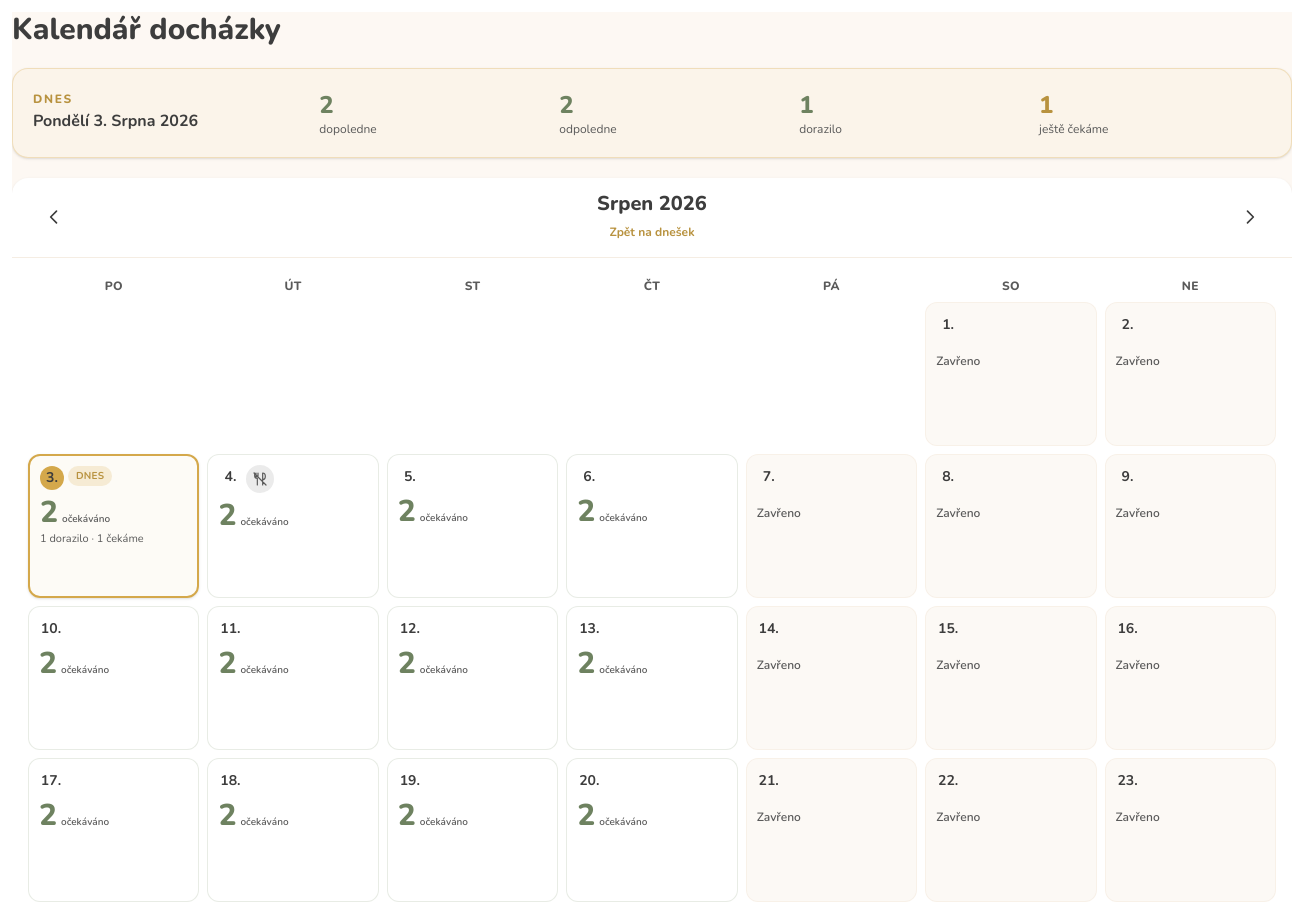
Test: disables returning to today and opening stale days while a month loads
What coordinates should you click on to do the following:
click the button named "Další měsíc"
I would click on:
 (1250, 217)
Its box is [1228, 195, 1272, 239].
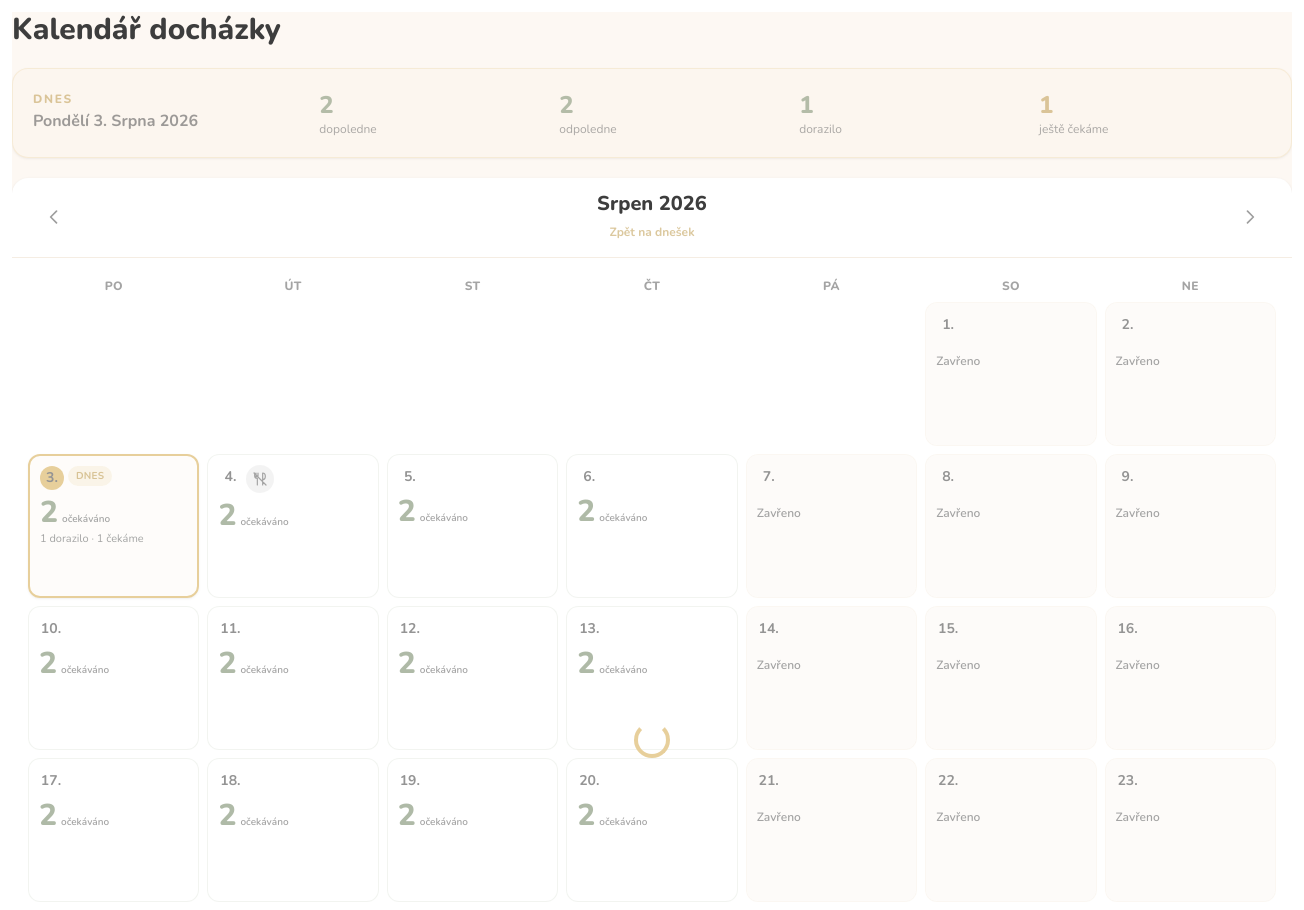
Now the button "Zpět na dnešek" is disabled, box [601, 220, 703, 244]
